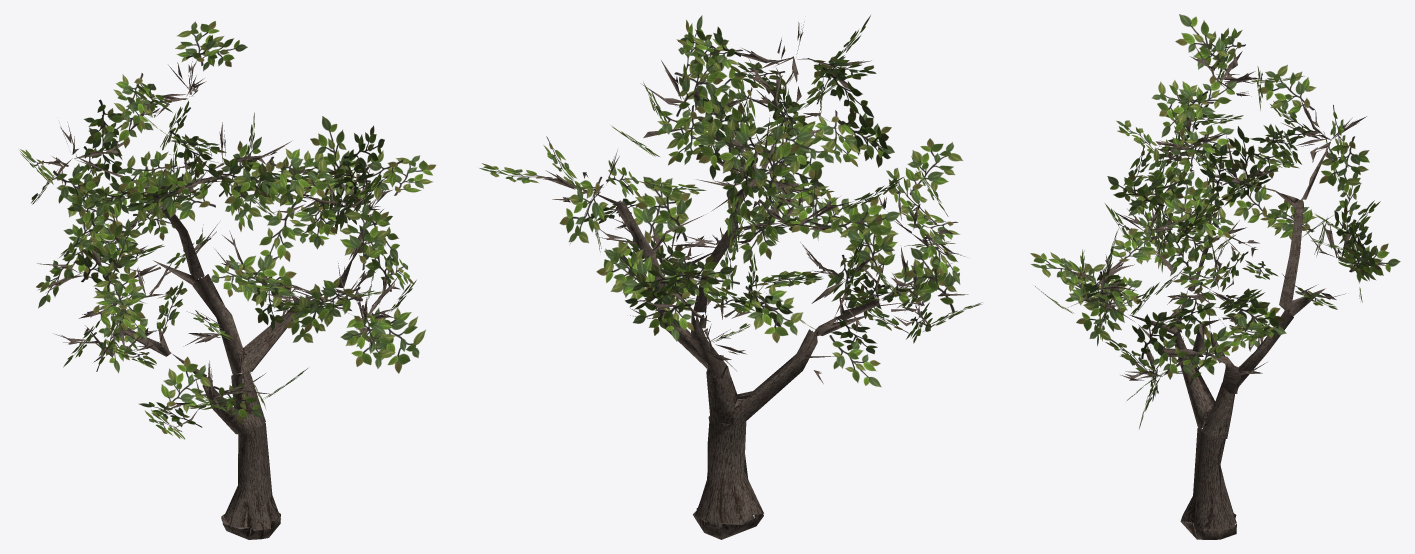
File: arvore_lod.gltf
The picture shows the model from 3 angles, left to right: view 1: azimuth 30°, elevation 25°; view 2: azimuth 150°, elevation 25°; view 3: azimuth 270°, elevation 25°; orthographic projection. The views are drawn at different scales.
Visible parts, largest first — view 1: arvore_lod; view 2: arvore_lod; view 3: arvore_lod.
Part boxes in pixels (x1,y1,x2,y2): arvore_lod: [18, 21, 435, 539]; arvore_lod: [479, 15, 981, 539]; arvore_lod: [1030, 14, 1400, 539].
Bounding box in the file's own units: 8.7 × 9.41 × 6.92.
2 materials, 2 textured.
